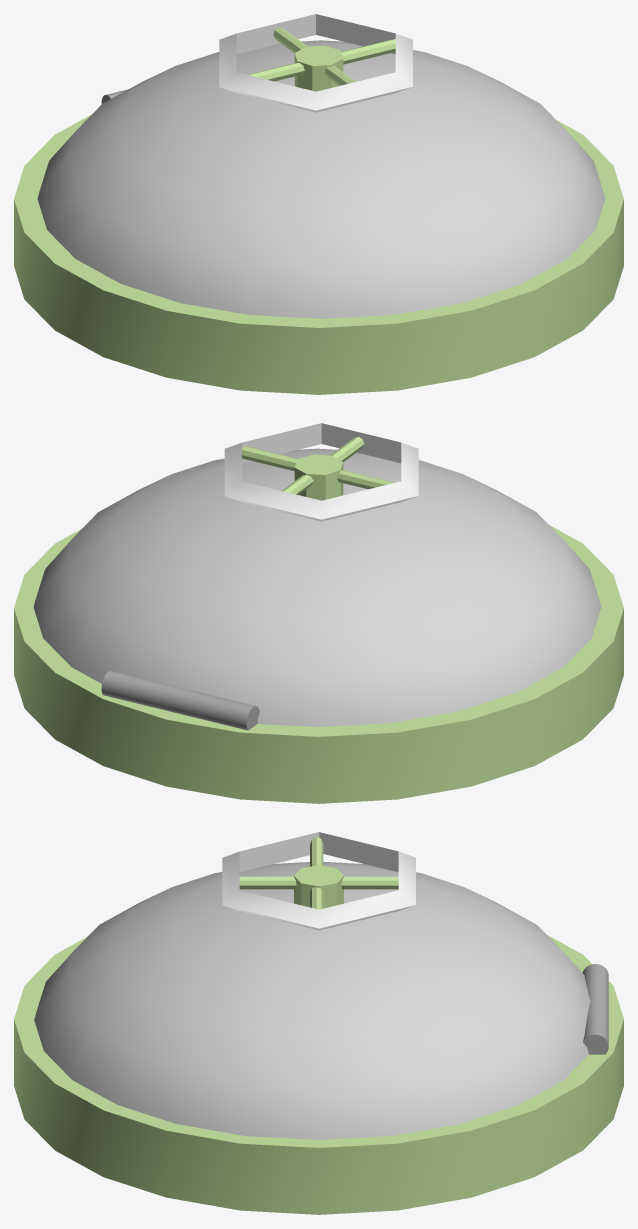
The model's file is Luke_1.fbx.
3 views of the same model, one above another, from view 1: azimuth 30°, elevation 25°; view 2: azimuth 150°, elevation 25°; view 3: azimuth 270°, elevation 25° (orthographic).
Parts seen in each view (by area): view 1: Cylinder_5; view 2: Cylinder_5; view 3: Cylinder_5.
Part boxes in pixels (box(x1,y1,x2,y2)): Cylinder_5: box(14, 14, 623, 394); Cylinder_5: box(14, 423, 623, 803); Cylinder_5: box(14, 832, 623, 1214).
Bounding box in the file's own units: 120 × 46.51 × 120.
